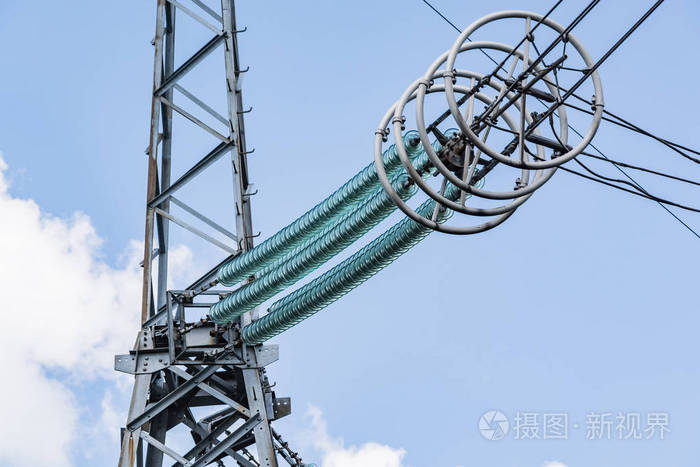insulator: (212, 125, 467, 344)
